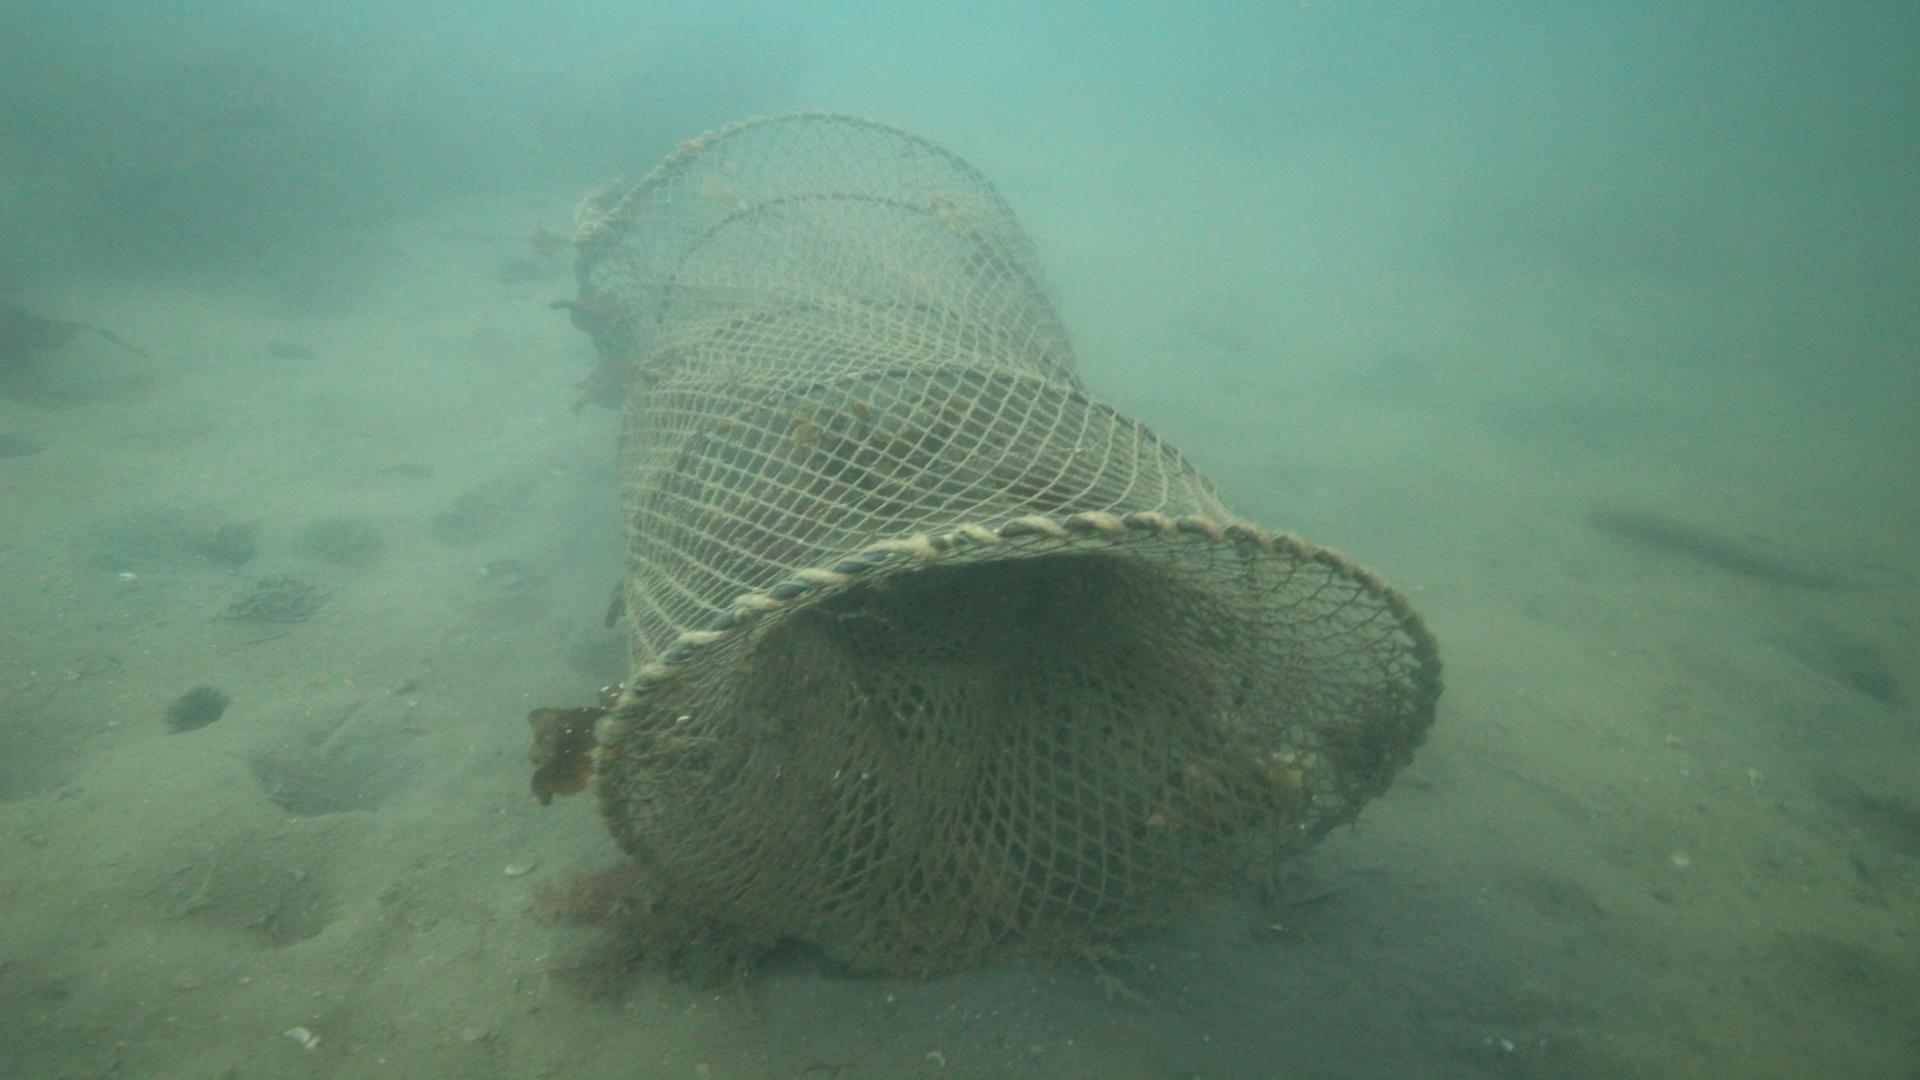spring fish trap: (572, 107, 1447, 977)
